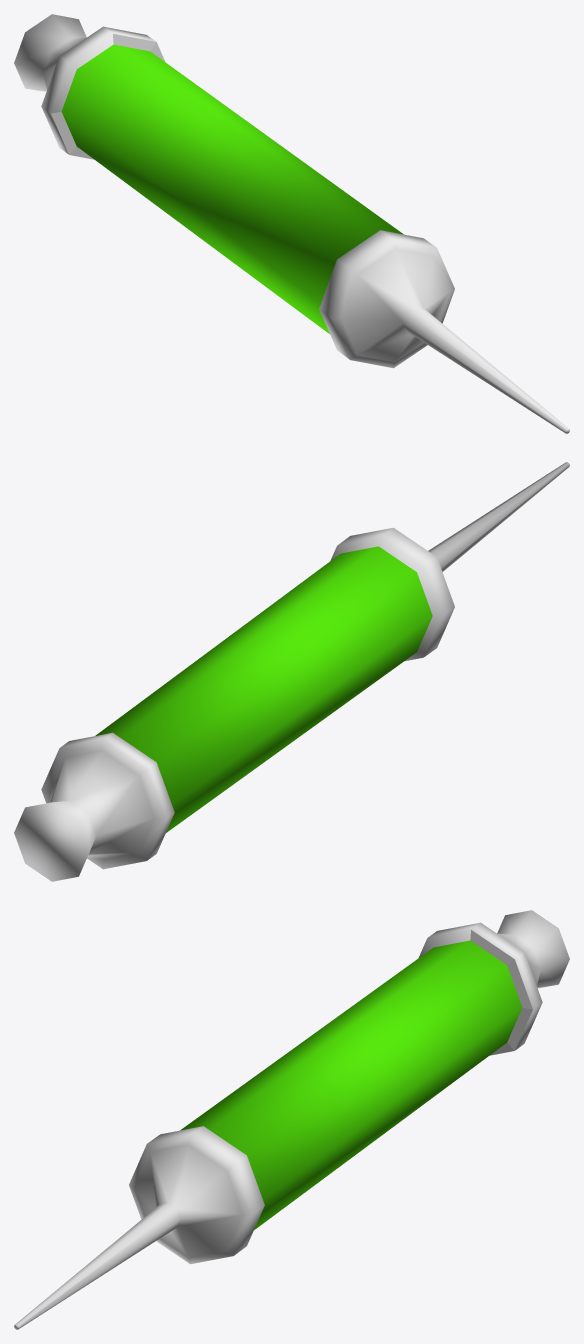
Rendered from CrossbowBullet.dae.
The picture shows the model from 3 angles, top to bottom: view 1: azimuth 30°, elevation 25°; view 2: azimuth 150°, elevation 25°; view 3: azimuth 330°, elevation 25°; orthographic projection.
Visible parts, largest first — view 1: Crossbow; view 2: Crossbow; view 3: Crossbow.
Boxes of the visible parts, box(x1,y1,x2,y2) form: Crossbow: box(14, 14, 569, 433); Crossbow: box(14, 462, 569, 881); Crossbow: box(14, 910, 569, 1329).
Bounding box in the file's own units: 0.0174 × 0.1255 × 0.0174.
